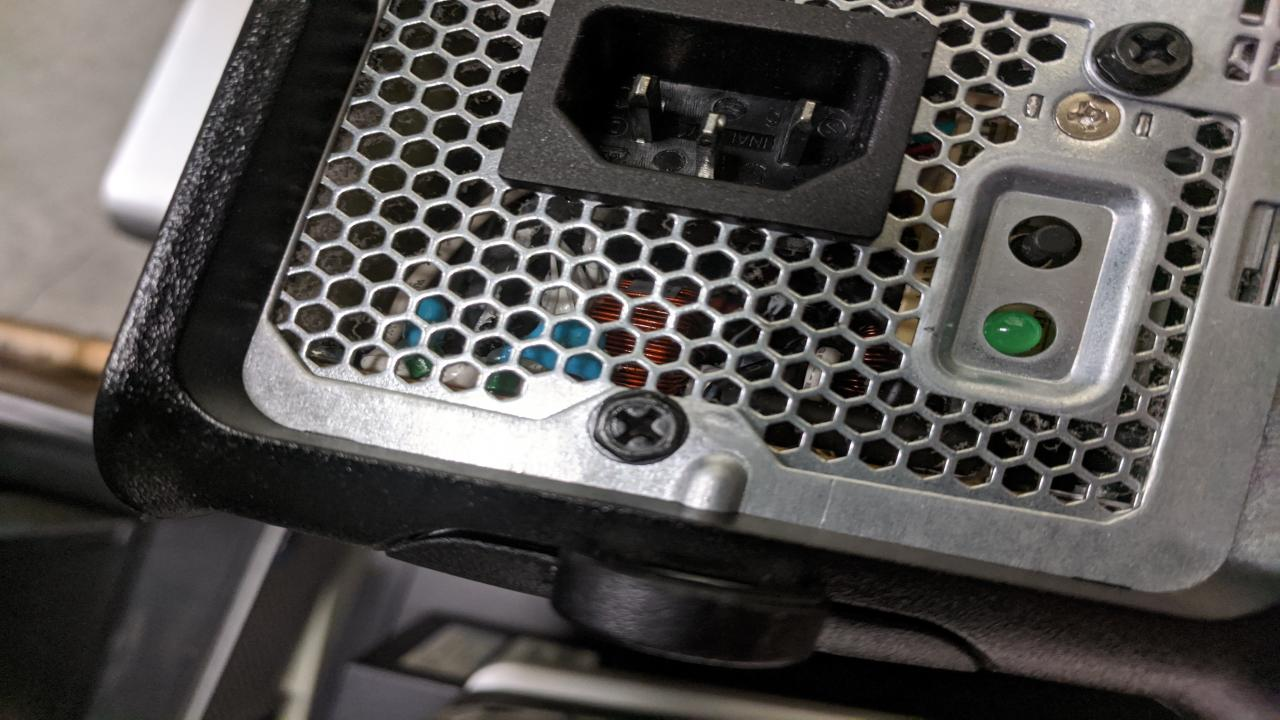CRS: (1098, 18, 1197, 88), (602, 394, 684, 464), (1053, 91, 1126, 140)
